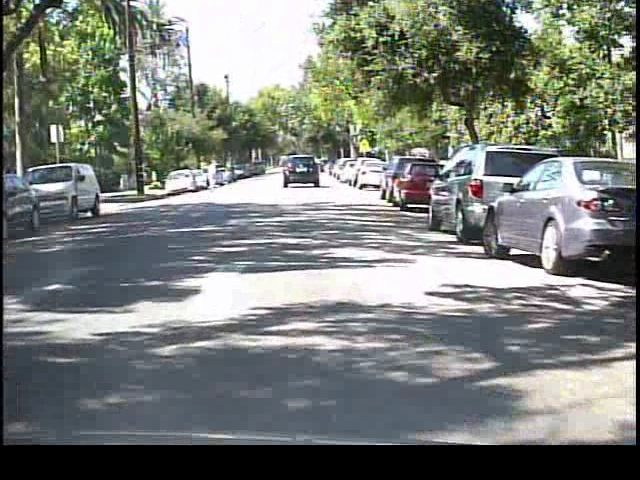person: (203, 157, 223, 197)
